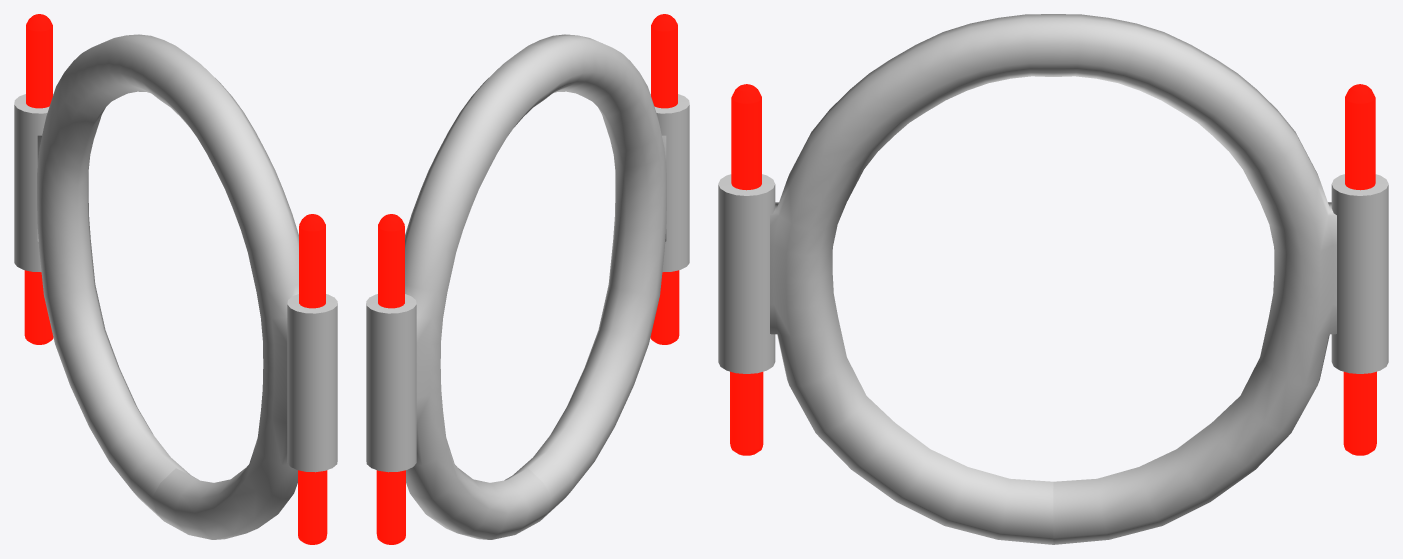
Rendered from hoop_model_02.fbx.
The picture shows the model from 3 angles, left to right: view 1: azimuth 30°, elevation 25°; view 2: azimuth 150°, elevation 25°; view 3: azimuth 270°, elevation 25°; orthographic projection. The views are drawn at different scales.
Parts seen in each view (by area): view 1: Torus; view 2: Torus; view 3: Torus.
Part boxes in pixels (box(x1,y1,x2,y2)): Torus: box(14, 14, 337, 544); Torus: box(366, 14, 689, 544); Torus: box(718, 14, 1388, 544).
Bounding box in the file's own units: 7849 × 710 × 6743.
